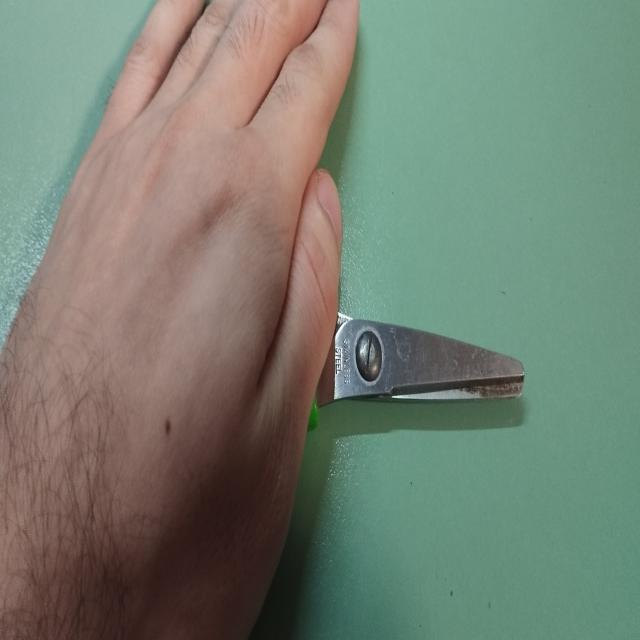tesoura: (110, 211, 528, 482)
